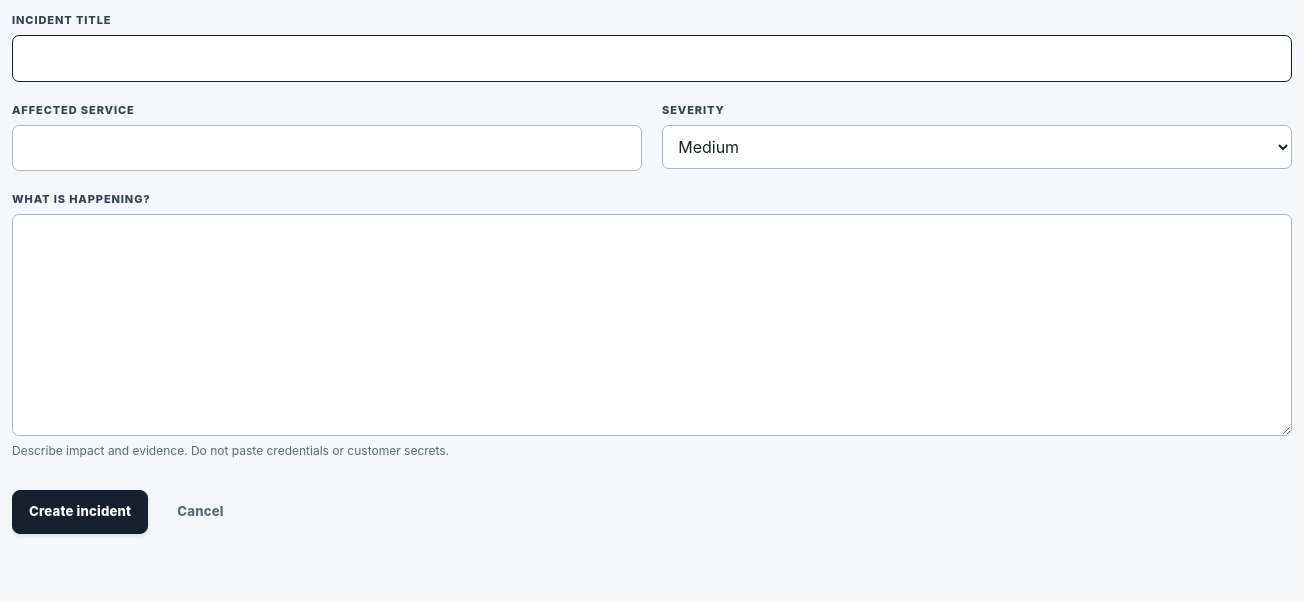
Test: IncidentForm › submits one idempotent command and reports the created incident
Type "Checkout latency above SLO" into the field labelled "Incident title" at (652, 58), box [12,35,1292,82]
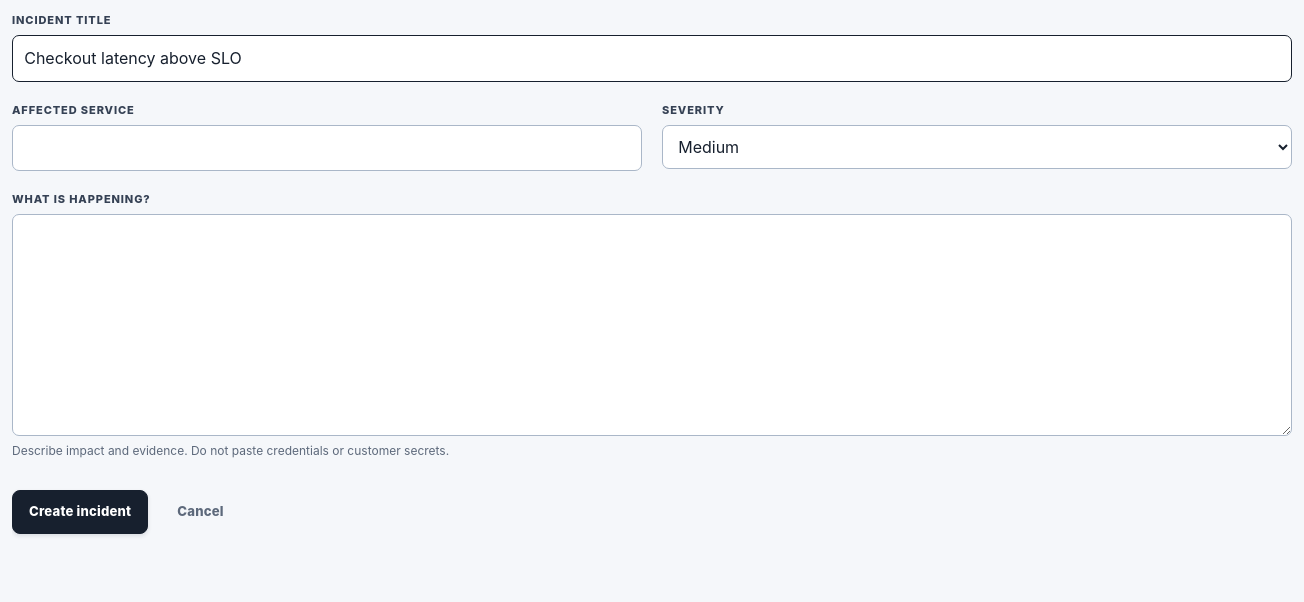
Type "checkout" into the field labelled "Affected service" at (327, 148), box [12,125,642,172]
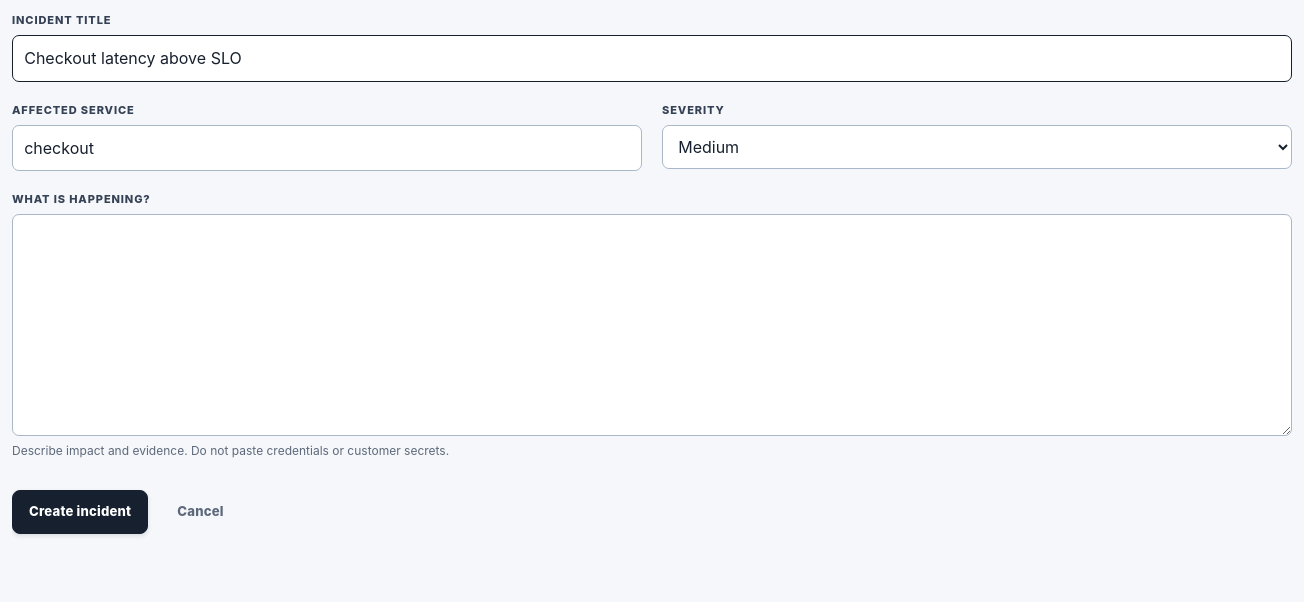
Type "Customers are waiting more than five seconds at checkout." into the text box labelled "What is happening?" at (652, 325), box [12,214,1292,436]
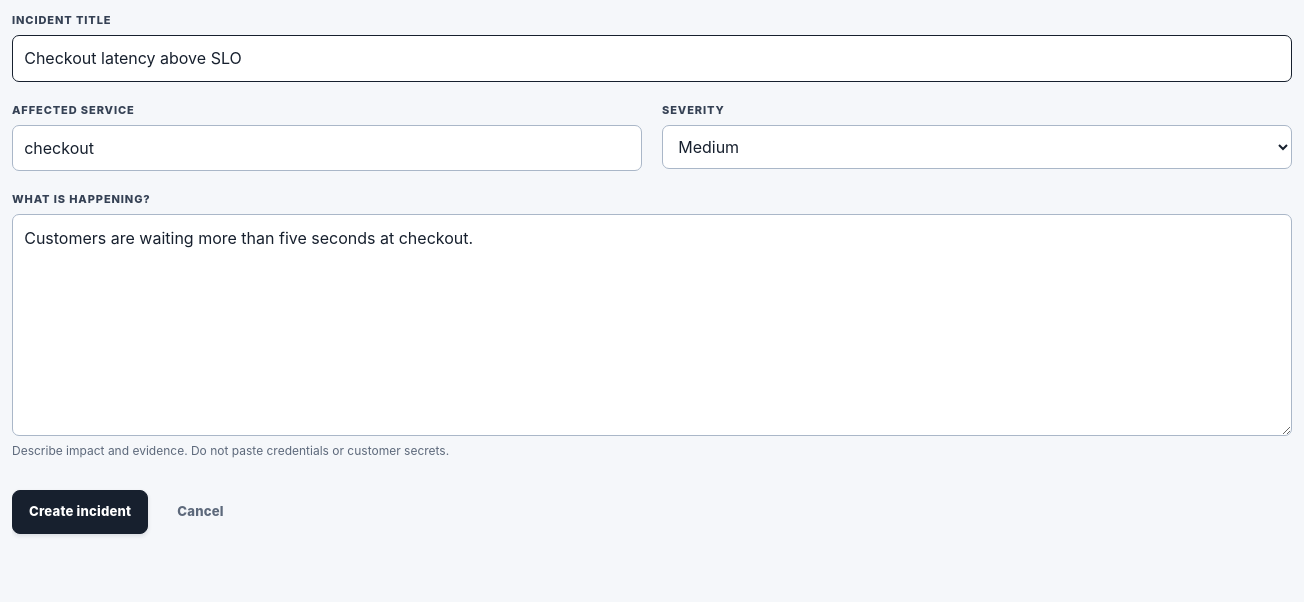
Select "High" in the dropdown labelled "Severity" at (977, 147), box [662,125,1292,170]
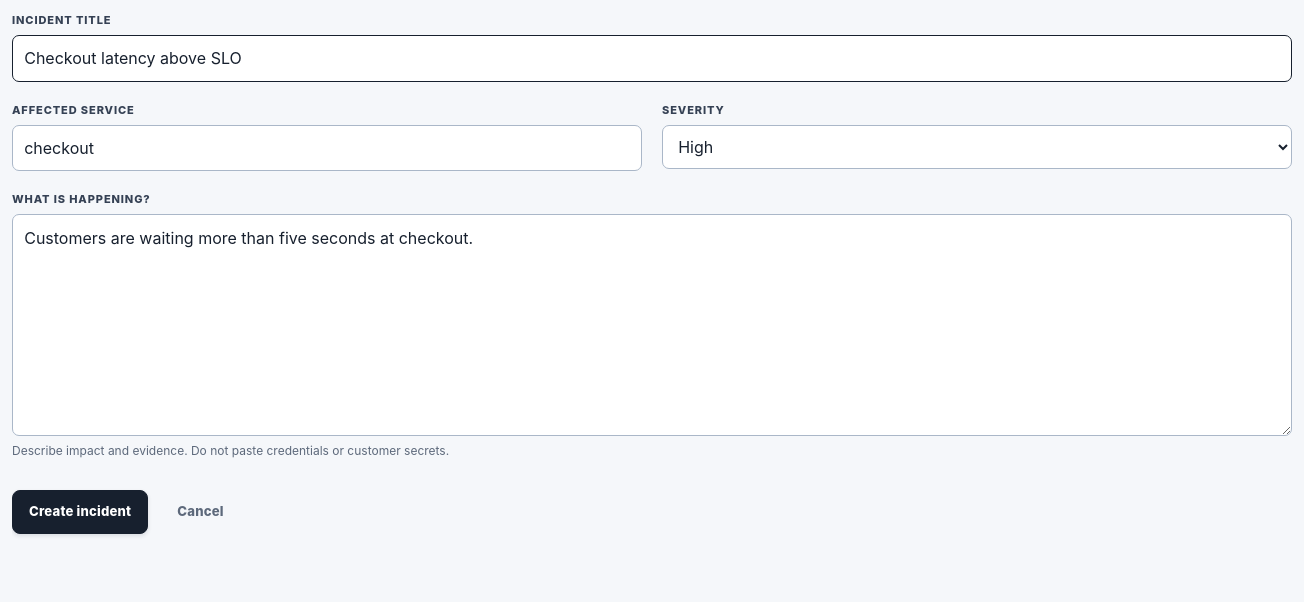
Click the button "Create incident" at (80, 512), box [12,490,148,534]
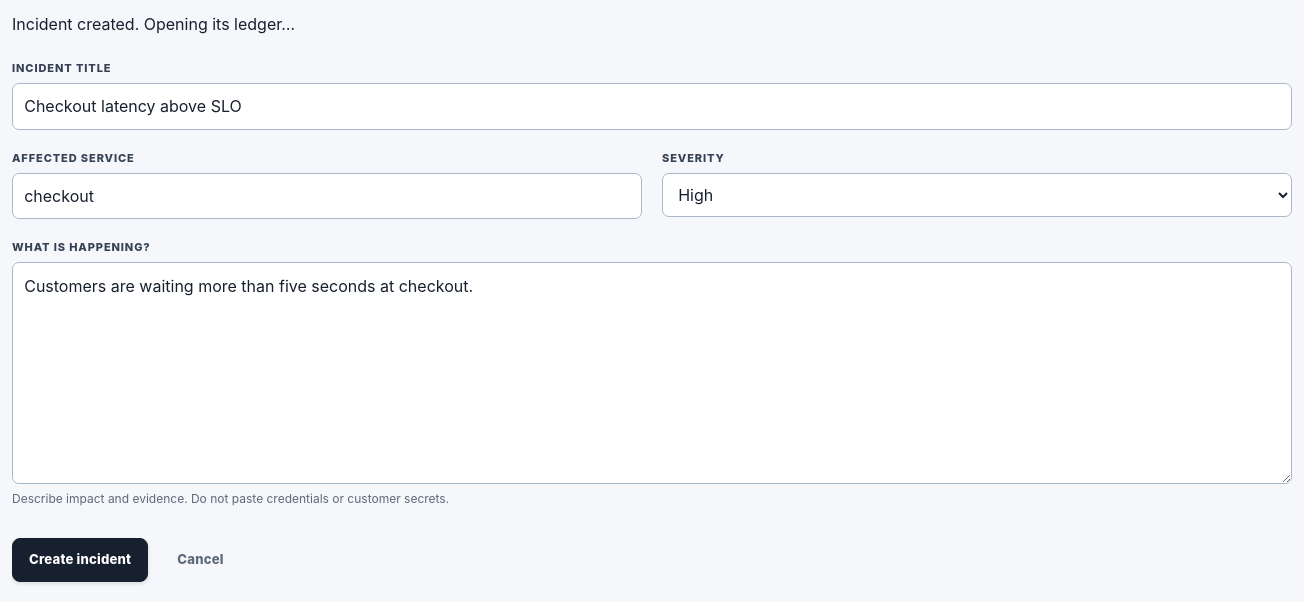
Now the message "Incident created. Opening its ledger…" is shown, box [12,14,295,34]
